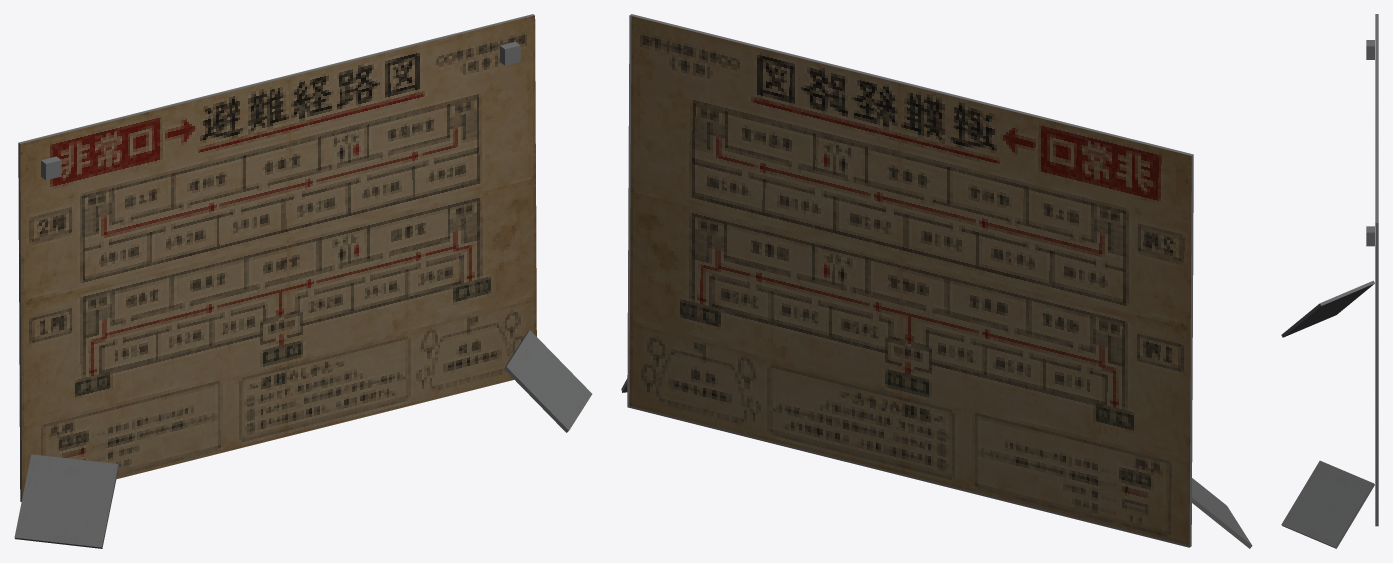
File: prop_poster-hinan-1.glb
The picture shows the model from 3 angles, left to right: view 1: azimuth 30°, elevation 25°; view 2: azimuth 150°, elevation 25°; view 3: azimuth 270°, elevation 25°; orthographic projection. The views are drawn at different scales.
Visible parts, largest first — view 1: prop_poster-hinan-1; view 2: prop_poster-hinan-1; view 3: prop_poster-hinan-1.
Part boxes in pixels (box(x1,y1,x2,y2)): prop_poster-hinan-1: box(14, 14, 592, 548); prop_poster-hinan-1: box(621, 14, 1252, 548); prop_poster-hinan-1: box(1281, 14, 1378, 548).
Size of the model in its own units: 0.5173 by 0.3201 by 0.0897.
2 materials, 2 textured.
